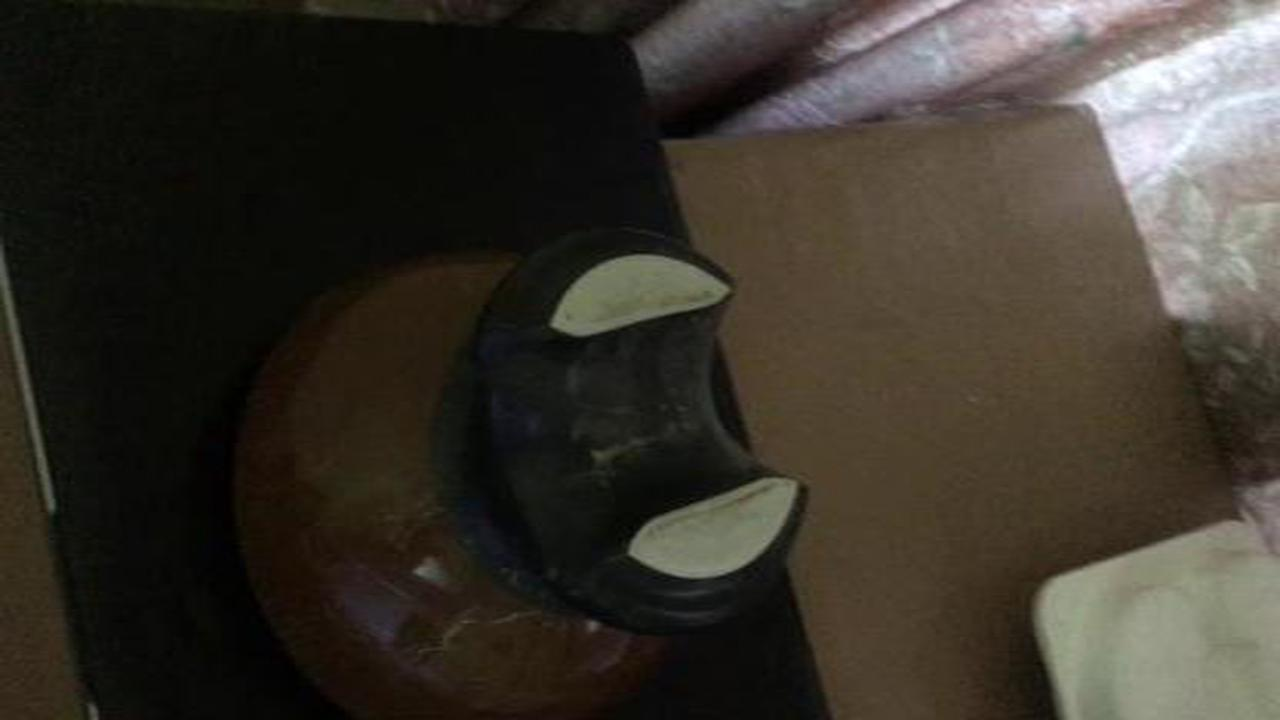insulator_pin: (197, 222, 828, 714)
